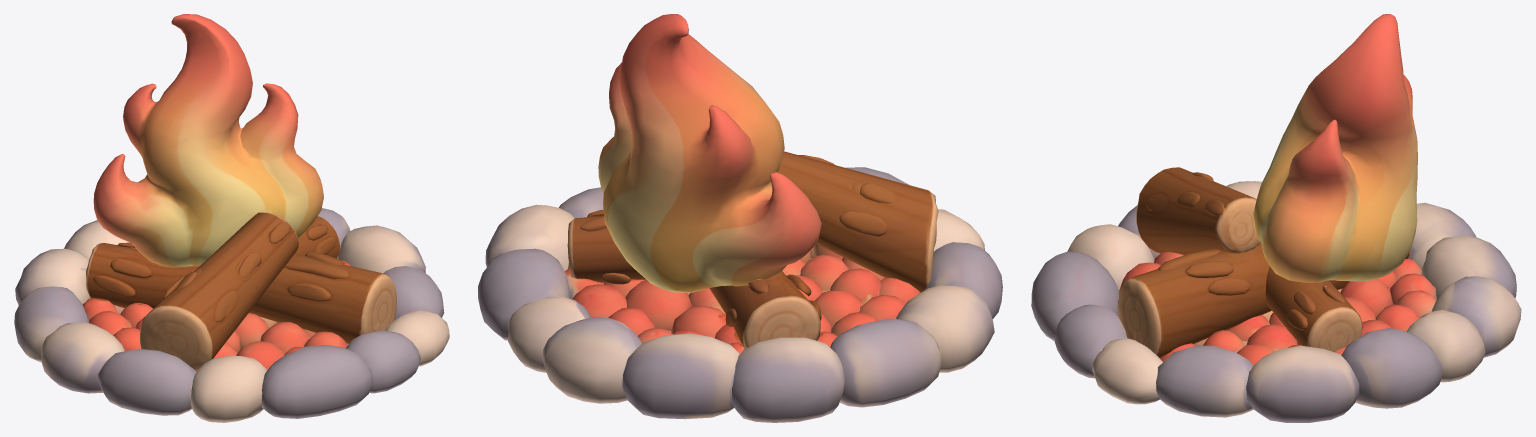
File: campfire.glb
3 renders of one model, left to right at view 1: azimuth 30°, elevation 25°; view 2: azimuth 150°, elevation 25°; view 3: azimuth 270°, elevation 25°, orthographic. The views are drawn at different scales.
Size of the model in its own units: 0.9536 by 0.6704 by 0.957.
1 material, 1 textured.
